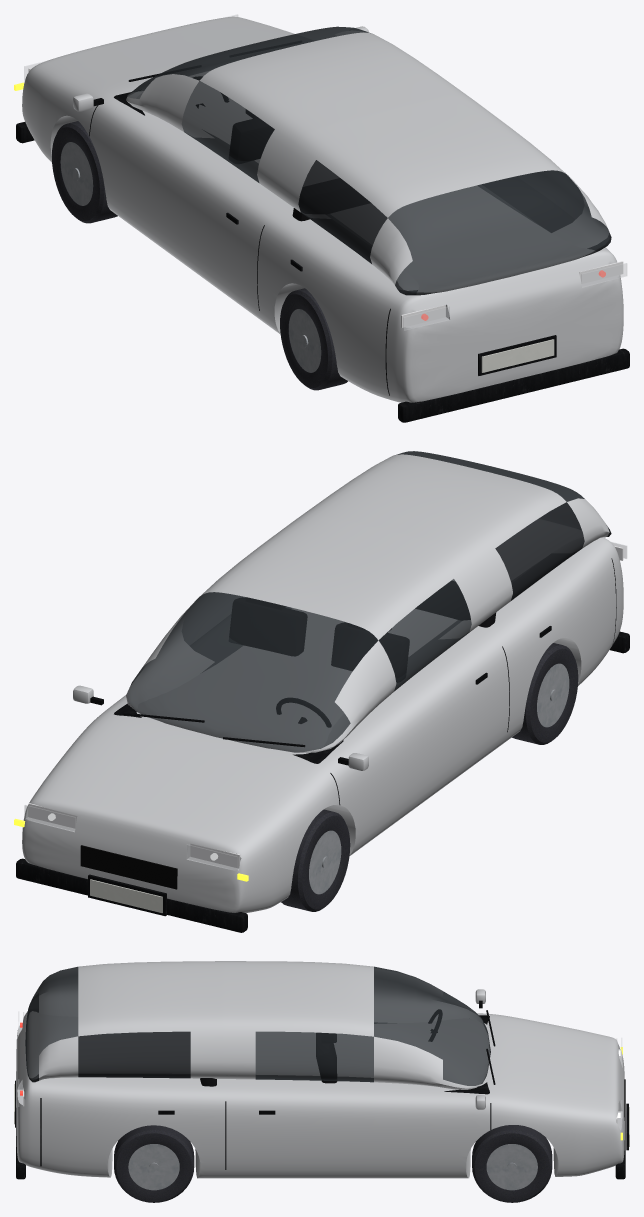
File: estate_silver.gltf
3 renders of one model, top to bottom at view 1: azimuth 30°, elevation 25°; view 2: azimuth 150°, elevation 25°; view 3: azimuth 270°, elevation 25°, orthographic. The views are drawn at different scales.
Parts seen in each view (by area): view 1: estate_silver; view 2: estate_silver; view 3: estate_silver.
Part boxes in pixels (x1=…): estate_silver: x1=14, y1=14, x2=629, y2=422; estate_silver: x1=14, y1=451, x2=629, y2=932; estate_silver: x1=14, y1=961, x2=629, y2=1202.
Bounding box in the file's own units: 2.11 × 1.48 × 4.9.
Materials: 17 (8 with a texture image).
